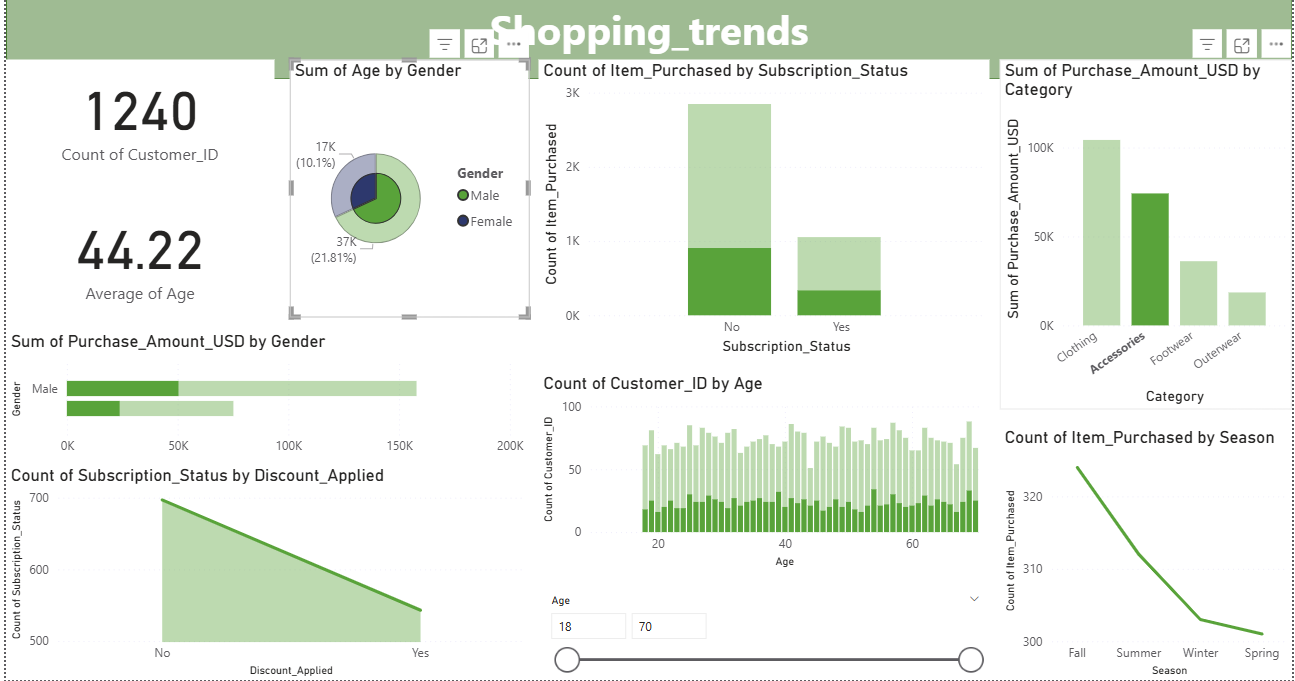

The page's visual inventory and layout, read from the dashboard file:
{"tool":"powerbi","page":{"name":"Page 1","canvas":[1280,720],"ordinal":0},"visuals":[{"type":"shape","box":[0,20.6,1280.3,100.2],"z":0},{"type":"pieChart","fields":{"Category":["shopping_trends.Gender"],"Y":["Sum(shopping_trends.Age)"]},"box":[282.9,101.9,237.7,257.5],"z":1000},{"type":"clusteredColumnChart","fields":{"Y":["Sum(shopping_trends.Purchase_Amount_USD)"],"Category":["shopping_trends.Category"]},"box":[989.5,101.6,290.8,348.6],"z":2000},{"type":"columnChart","fields":{"Category":["shopping_trends.Subscription_Status"],"Y":["CountNonNull(shopping_trends.Item_Purchased)"]},"box":[530.5,101.9,448.5,298.5],"z":3000},{"type":"card","fields":{"Values":["CountNonNull(shopping_trends.Customer_ID)"]},"box":[0,101.6,267.3,111],"z":4000},{"type":"card","fields":{"Values":["Avg(shopping_trends.Age)"]},"box":[0,231.4,267.3,128.2],"z":5000},{"type":"barChart","fields":{"Category":["shopping_trends.Gender"],"Y":["Sum(shopping_trends.Purchase_Amount_USD)"]},"box":[0,372.1,520.6,132.9],"z":6000},{"type":"areaChart","fields":{"Category":["shopping_trends.Discount_Applied"],"Y":["CountNonNull(shopping_trends.Subscription_Status)"]},"box":[0,504.9,520.6,215.7],"z":7000},{"type":"lineChart","fields":{"Category":["shopping_trends.Season"],"Y":["CountNonNull(shopping_trends.Item_Purchased)"]},"box":[989.5,467.4,290.8,253.2],"z":8000},{"type":"lineClusteredColumnComboChart","fields":{"Y":["CountNonNull(shopping_trends.Customer_ID)"],"Category":["shopping_trends.Age"]},"box":[530.5,414.5,447,198.1],"z":8001},{"type":"slicer","fields":{"Values":["shopping_trends.Age"]},"box":[530.5,628.1,451.3,92],"z":8002}]}

Visuals, with their boxes on the page's 1280x720 design canvas (x1, y1, x2, y2). These are canvas units, not pixel positions in the 1295x681 screenshot, which may show the page scaled, cropped or inside an application window:
shape: crop(0, 21, 1280, 121)
pieChart - shopping_trends.Gender x Sum(shopping_trends.Age): crop(283, 102, 521, 359)
clusteredColumnChart - Sum(shopping_trends.Purchase_Amount_USD) x shopping_trends.Category: crop(990, 102, 1280, 450)
columnChart - shopping_trends.Subscription_Status x CountNonNull(shopping_trends.Item_Purchased): crop(530, 102, 979, 400)
card - CountNonNull(shopping_trends.Customer_ID): crop(0, 102, 267, 213)
card - Avg(shopping_trends.Age): crop(0, 231, 267, 360)
barChart - shopping_trends.Gender x Sum(shopping_trends.Purchase_Amount_USD): crop(0, 372, 521, 505)
areaChart - shopping_trends.Discount_Applied x CountNonNull(shopping_trends.Subscription_Status): crop(0, 505, 521, 721)
lineChart - shopping_trends.Season x CountNonNull(shopping_trends.Item_Purchased): crop(990, 467, 1280, 721)
lineClusteredColumnComboChart - CountNonNull(shopping_trends.Customer_ID) x shopping_trends.Age: crop(530, 414, 978, 613)
slicer - shopping_trends.Age: crop(530, 628, 982, 720)
